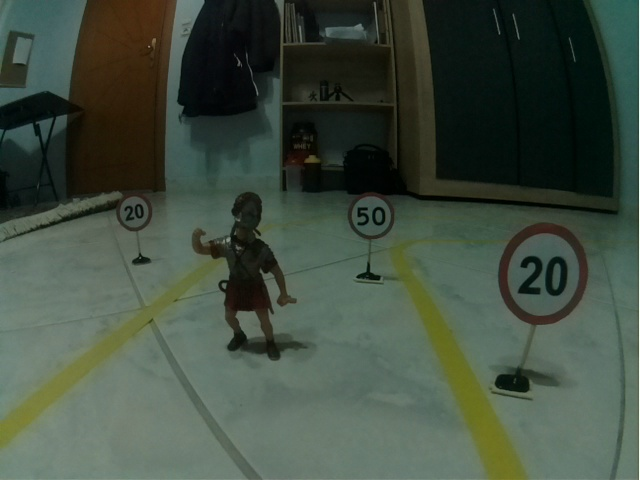Person: (191, 191, 297, 361)
Speed Limit 20: (498, 222, 589, 325), (116, 193, 152, 232)
Speed Limit 50: (348, 192, 395, 240)
